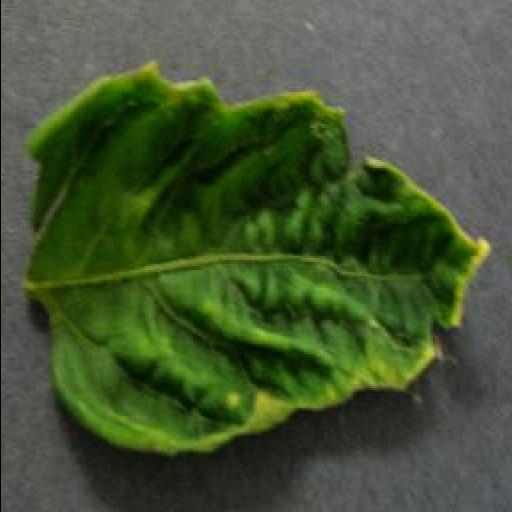disease_tomato: (22, 60, 492, 456)
